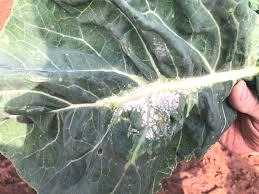Bok-Choy-Diseased: (11, 0, 235, 179)
